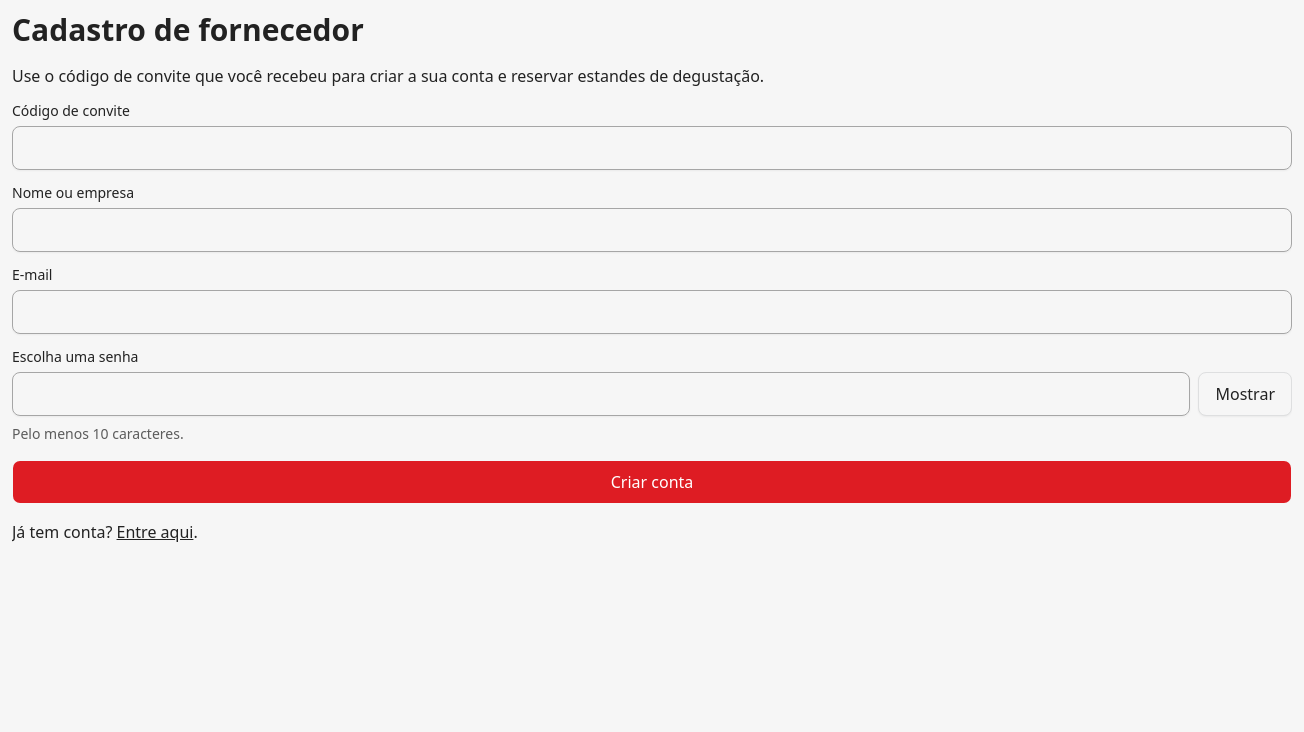
cadastro com código › sem código, nem tenta
Type "Loja Nova" into the field labelled "Nome ou empresa" at (652, 230), box [12,208,1292,252]
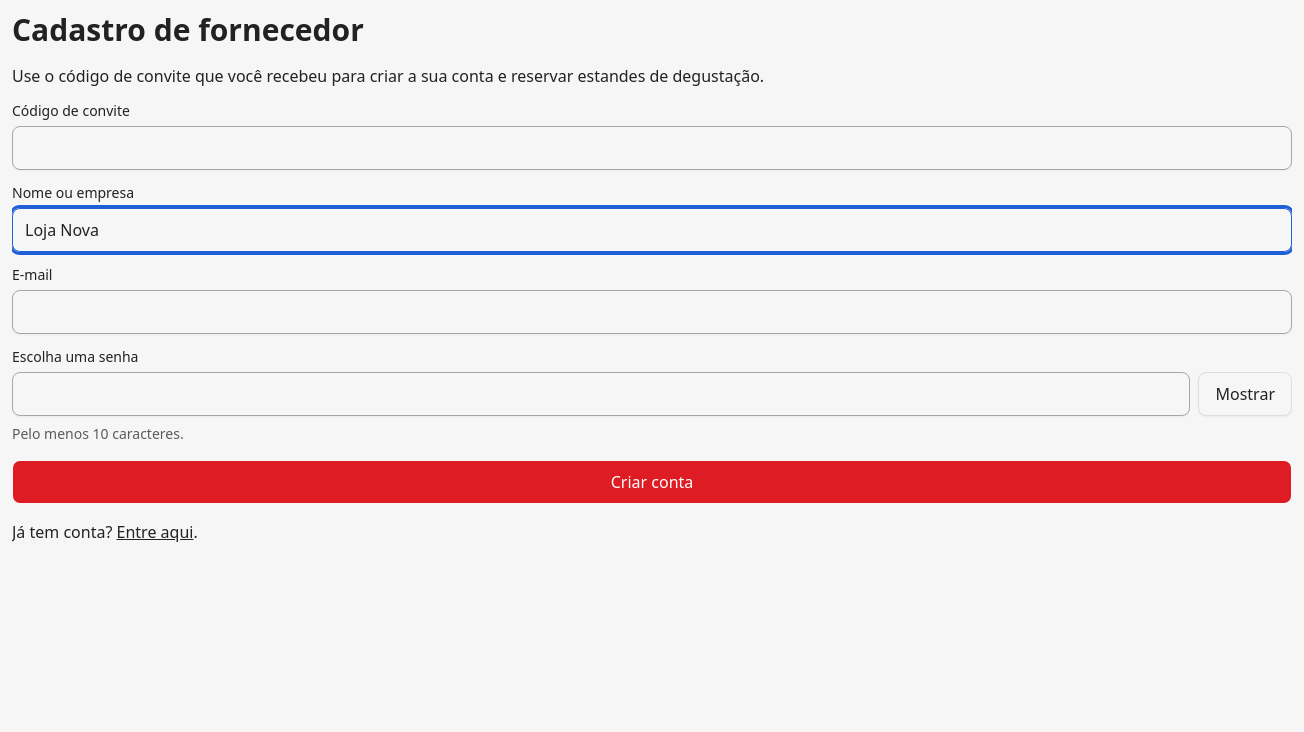
Type "nova@loja.com" into the field labelled "E-mail" at (652, 312), box [12,290,1292,334]
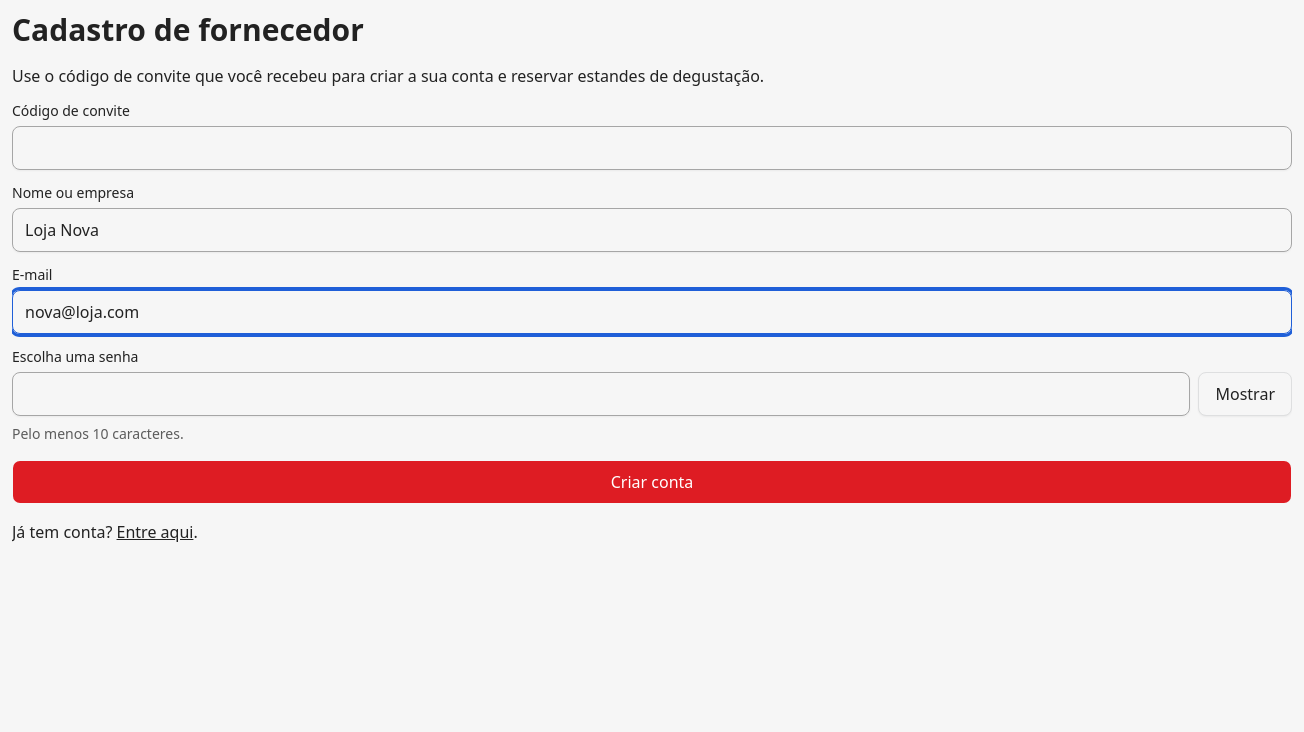
Type "uma-senha-bem-longa" into the password field labelled "Escolha uma senha" at (601, 394), box [12,372,1190,416]
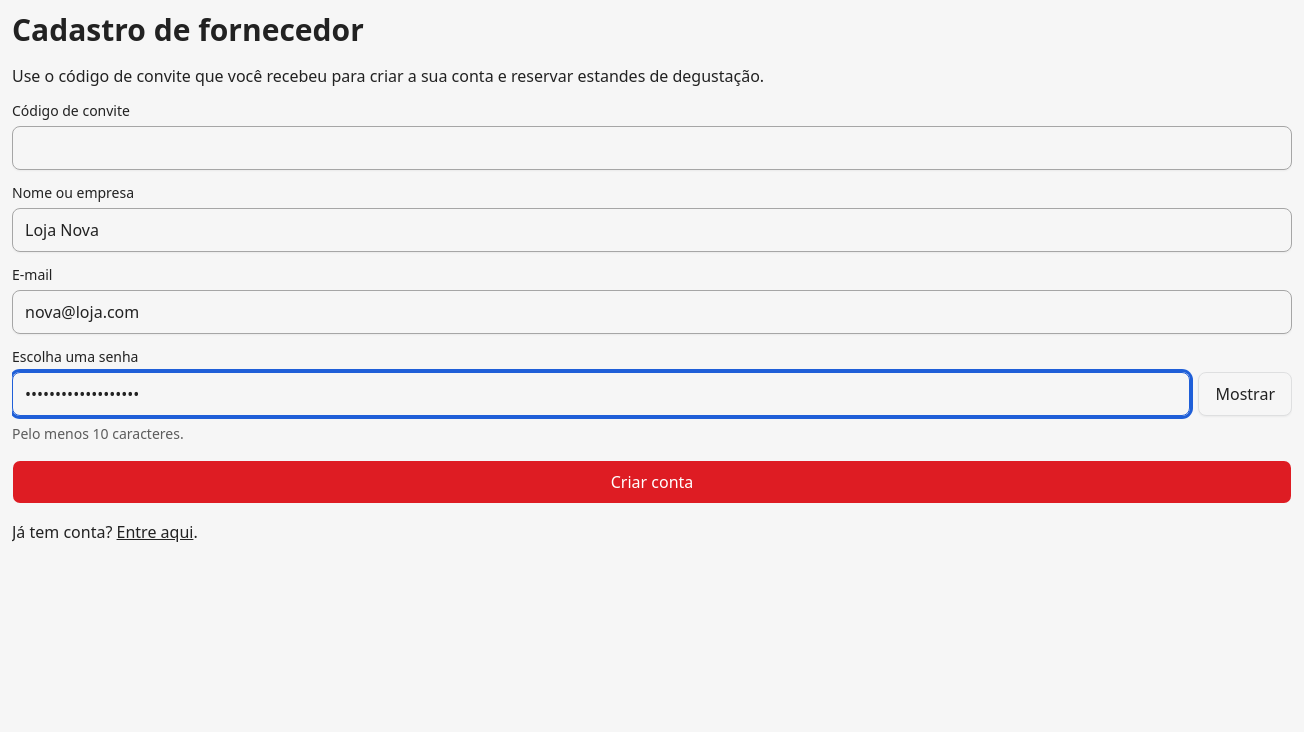
Click the button "Criar conta" at (652, 482), box [12,460,1292,504]
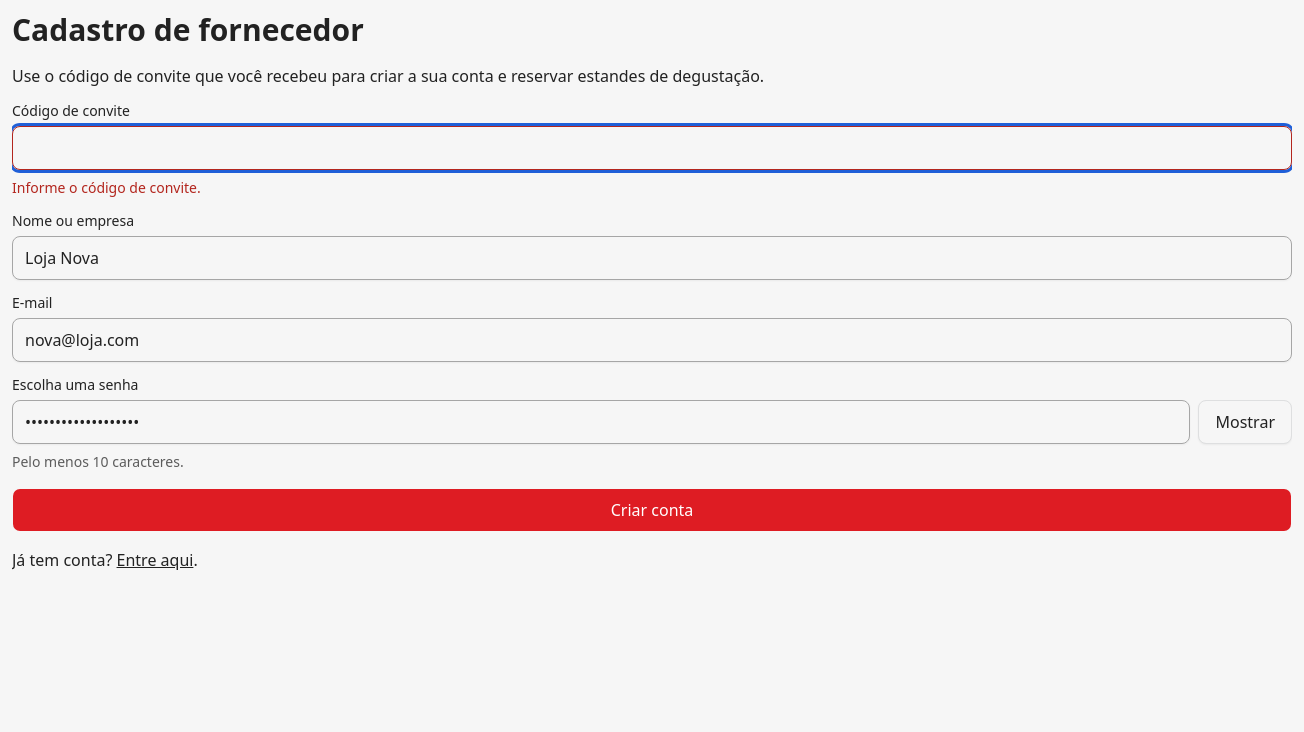
expect the message shows "Informe o código de convite": met, box [12,178,201,197]
